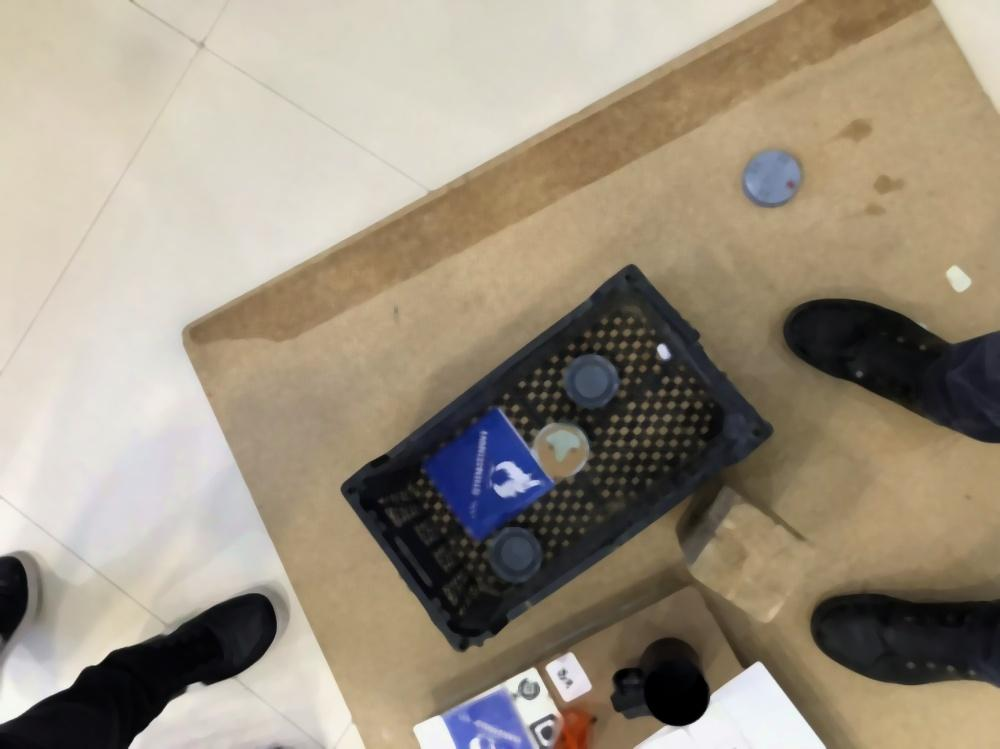dangerous-when-wet: (426, 410, 549, 534), (443, 691, 531, 748)
